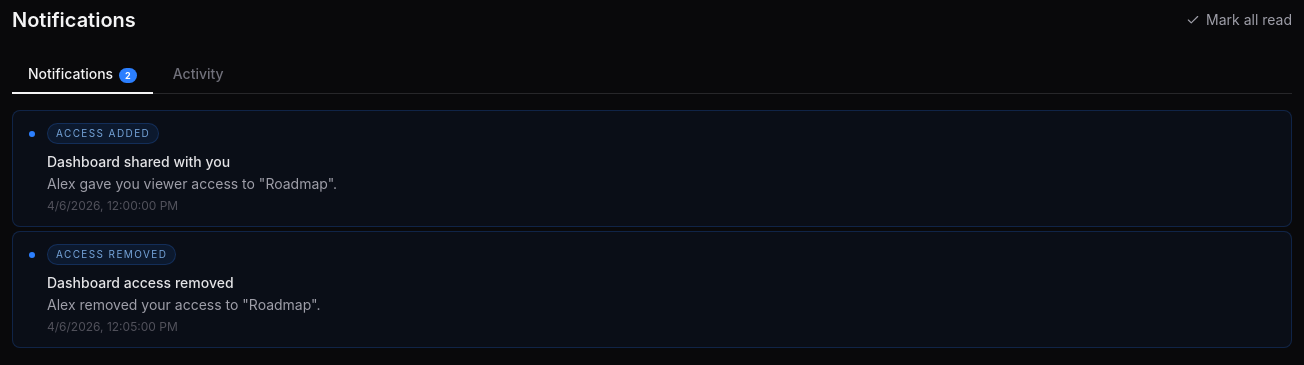
Test case: NotificationsPage › narrows the feed to the chosen category and refetches for it
Click the button "activity". click: (198, 75)
box: [157,56,240,94]
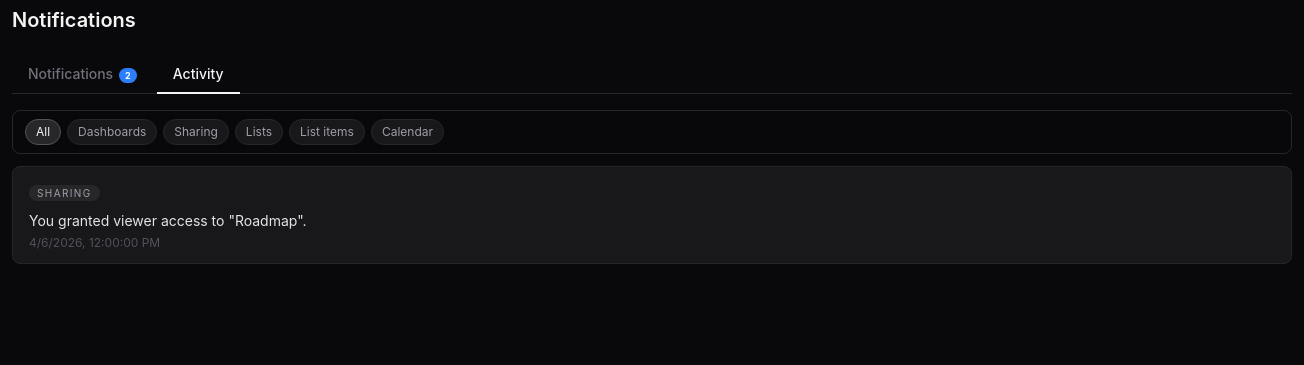
Now the text "You granted viewer access to \"Roadmap\"." is shown, box [29,212,307,229]
Click the button "Calendar". click: (407, 132)
box: [371,119,444,145]
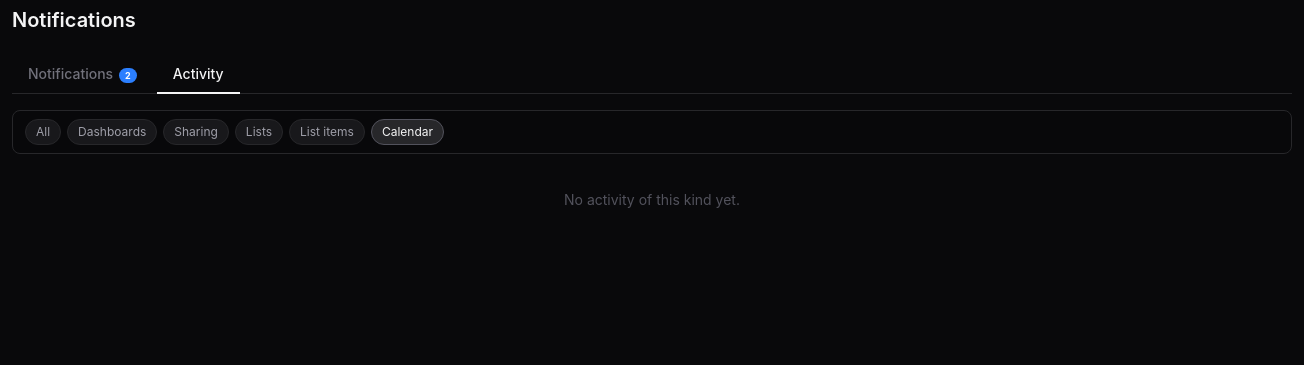
Now the text "No activity of this kind yet." is shown, box [564,191,740,208]
